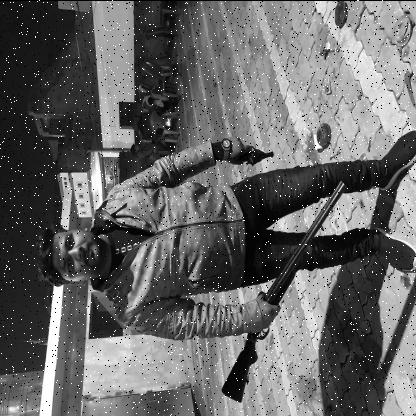rifle: (220, 176, 348, 404), (231, 142, 275, 168)
